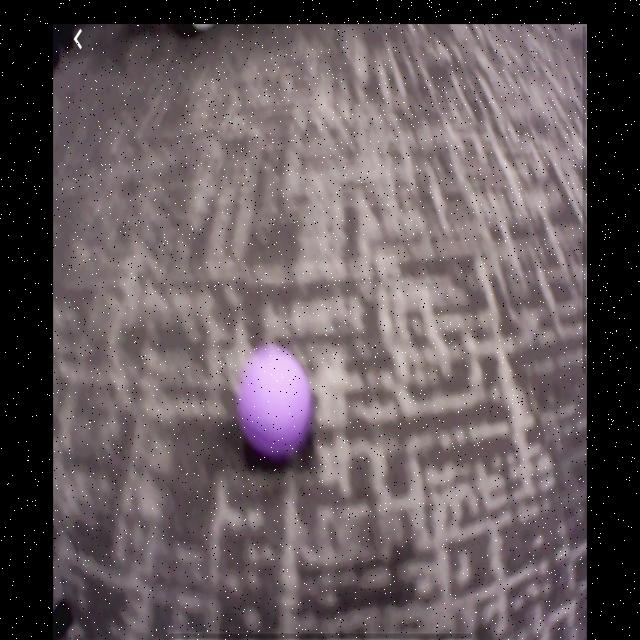ball: (237, 347, 311, 458)
